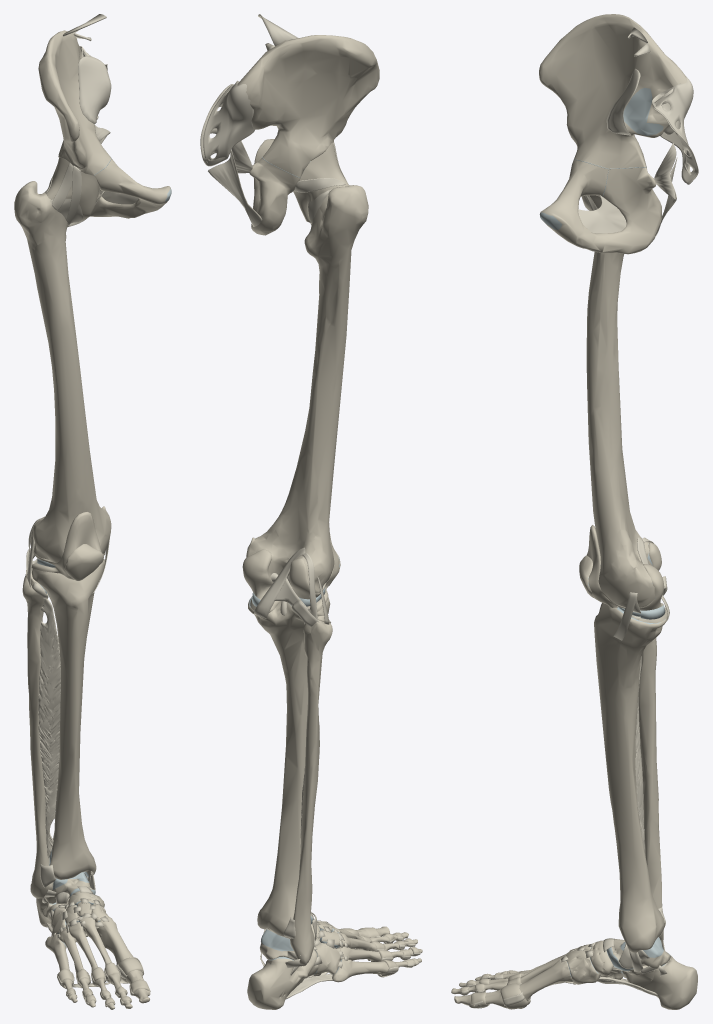
File: detail-skeletal-right-lower-limb.glb
The picture shows the model from 3 angles, left to right: view 1: azimuth 30°, elevation 25°; view 2: azimuth 150°, elevation 25°; view 3: azimuth 270°, elevation 25°; orthographic projection. The views are drawn at different scales.
Visible parts, largest first — view 1: za-ebb15e1f4911a807, za-adbd394e788929f0, za-43545666d4943509, za-c4d4c1832dd6acc6, za-33bc3ea1caf24a3b, za-b191f37394b1386c, za-8133a26464c4494b, za-327b13fb3ba12514, za-b938e8231daf0290, za-898fb398bf6e1703, za-18d651c7c4cb48c4, za-c1f6c7cdb515b619 (+7 smaller); view 2: za-ebb15e1f4911a807, za-43545666d4943509, za-adbd394e788929f0, za-33bc3ea1caf24a3b, za-39f7c973b5a88efc, za-de406c692e95c99e, za-8133a26464c4494b, za-327b13fb3ba12514, za-62f9fde33e153e51, za-1b66c3ed065c7cc6, za-f102662ed61dbd29, za-32252c5a8288c33b (+2 smaller); view 3: za-43545666d4943509, za-ebb15e1f4911a807, za-adbd394e788929f0, za-33bc3ea1caf24a3b, za-de406c692e95c99e, za-39f7c973b5a88efc, za-8133a26464c4494b, za-36586ce52b5c7e1a, za-18d651c7c4cb48c4, za-c1f6c7cdb515b619, za-b191f37394b1386c, za-c4d4c1832dd6acc6 (+2 smaller).
Boxes of the visible parts, <box> form: za-ebb15e1f4911a807: <box>14,181,111,563</box>; za-adbd394e788929f0: <box>32,559,105,879</box>; za-43545666d4943509: <box>38,30,171,218</box>; za-c4d4c1832dd6acc6: <box>38,598,60,858</box>; za-33bc3ea1caf24a3b: <box>22,572,53,898</box>; za-b191f37394b1386c: <box>78,56,111,124</box>; za-8133a26464c4494b: <box>30,512,105,579</box>; za-327b13fb3ba12514: <box>46,157,99,220</box>; za-b938e8231daf0290: <box>64,544,103,580</box>; za-898fb398bf6e1703: <box>57,957,142,988</box>; za-18d651c7c4cb48c4: <box>97,917,133,965</box>; za-c1f6c7cdb515b619: <box>45,872,95,903</box>; za-ebb15e1f4911a807: <box>246,161,368,593</box>; za-43545666d4943509: <box>237,35,379,235</box>; za-adbd394e788929f0: <box>248,596,330,936</box>; za-33bc3ea1caf24a3b: <box>290,620,332,966</box>; za-39f7c973b5a88efc: <box>200,80,254,166</box>; za-de406c692e95c99e: <box>247,949,318,1009</box>; za-8133a26464c4494b: <box>242,534,339,612</box>; za-327b13fb3ba12514: <box>293,142,348,222</box>; za-62f9fde33e153e51: <box>208,150,262,226</box>; za-1b66c3ed065c7cc6: <box>254,547,305,618</box>; za-f102662ed61dbd29: <box>274,553,318,620</box>; za-32252c5a8288c33b: <box>332,959,388,982</box>; za-43545666d4943509: <box>539,14,686,254</box>; za-ebb15e1f4911a807: <box>586,252,655,607</box>; za-adbd394e788929f0: <box>594,603,666,952</box>; za-33bc3ea1caf24a3b: <box>638,638,663,945</box>; za-de406c692e95c99e: <box>622,953,697,1009</box>; za-39f7c973b5a88efc: <box>652,76,698,184</box>; za-8133a26464c4494b: <box>587,525,667,623</box>; za-36586ce52b5c7e1a: <box>578,195,626,233</box>; za-18d651c7c4cb48c4: <box>519,959,572,1000</box>; za-c1f6c7cdb515b619: <box>607,937,670,971</box>; za-b191f37394b1386c: <box>606,68,640,135</box>; za-c4d4c1832dd6acc6: <box>635,656,644,850</box>.
Size of the model in its own units: 0.1456 by 1.01 by 0.2294.
